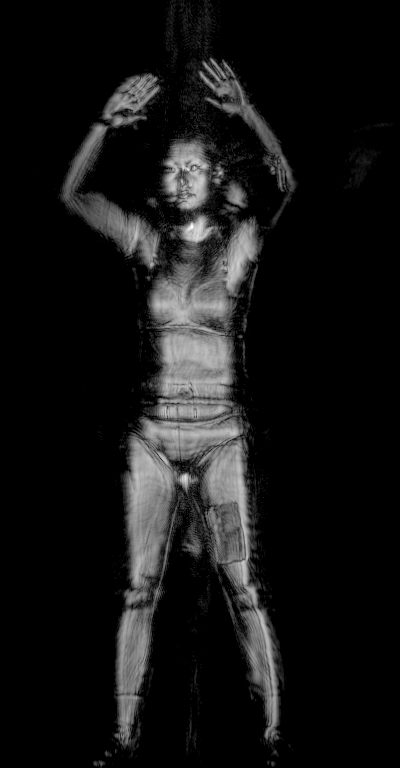head: (150, 136, 226, 219)
others: (203, 496, 251, 565), (262, 149, 289, 192)
person: (57, 51, 296, 768)
